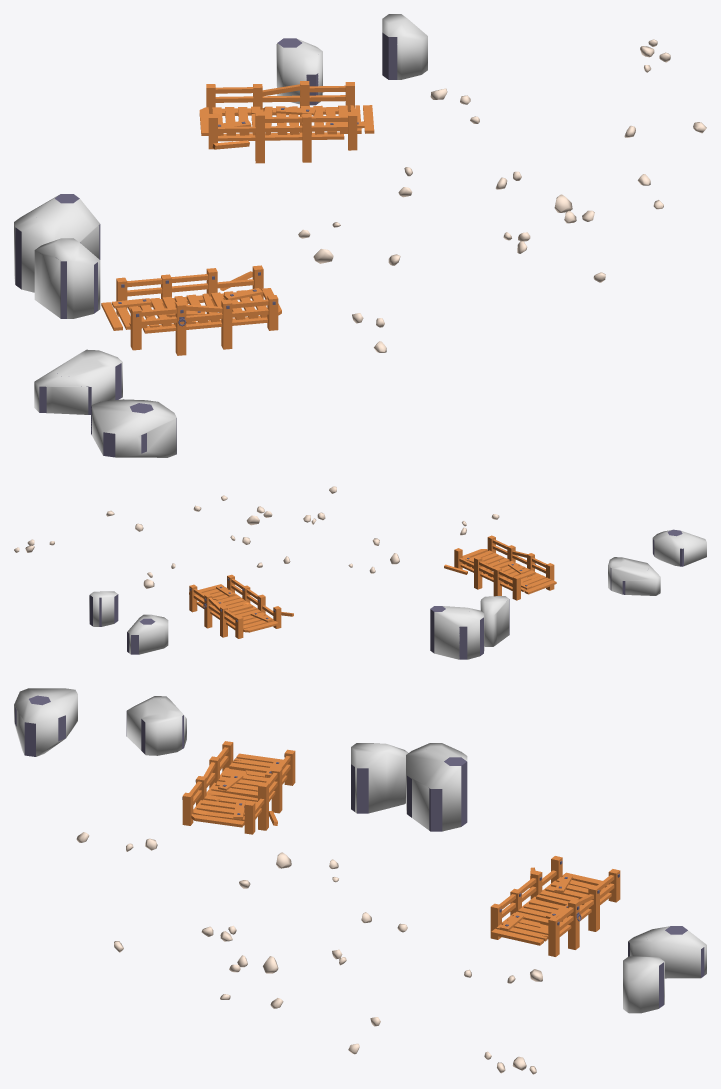
The model's file is scenery.glb.
3 renders of one model, top to bottom at view 1: azimuth 30°, elevation 25°; view 2: azimuth 150°, elevation 25°; view 3: azimuth 270°, elevation 25°, orthographic. The views are drawn at different scales.
Visible parts, largest first — view 1: bridgePhysicalFixed.001, bridgePhysicalFixed, hull.011, hull.016, hull.012, hull.015, Cube.157, hull.013, hull.014, basaltRocksPhysicalStatic.001, basaltRocksPhysicalStatic.002, basaltRocksPhysicalStatic; view 2: bridgePhysicalFixed.001, bridgePhysicalFixed, hull.015, hull.012, hull.011, Cube.157, hull.016, hull.014, hull.013, basaltRocksPhysicalStatic.001, basaltRocksPhysicalStatic; view 3: bridgePhysicalFixed, bridgePhysicalFixed.001, hull.015, hull.016, hull.011, hull.012, hull.014, Cube.157, basaltRocksPhysicalStatic.001, hull.013, basaltRocksPhysicalStatic.002.
Boxes of the visible parts, x1,y1,x2,y2 form: bridgePhysicalFixed.001: [101, 265, 281, 355]; bridgePhysicalFixed: [199, 81, 374, 163]; hull.011: [91, 399, 176, 457]; hull.016: [34, 238, 100, 318]; hull.012: [34, 349, 122, 414]; hull.015: [14, 195, 99, 292]; Cube.157: [298, 39, 706, 352]; hull.013: [382, 14, 427, 79]; hull.014: [276, 39, 322, 104]; basaltRocksPhysicalStatic.001: [15, 194, 100, 318]; basaltRocksPhysicalStatic.002: [39, 363, 176, 457]; basaltRocksPhysicalStatic: [277, 32, 397, 105]; bridgePhysicalFixed.001: [444, 535, 556, 600]; bridgePhysicalFixed: [189, 574, 293, 638]; hull.015: [434, 606, 484, 659]; hull.012: [608, 557, 660, 595]; hull.011: [652, 529, 706, 566]; Cube.157: [14, 486, 499, 588]; hull.016: [480, 596, 509, 646]; hull.014: [127, 614, 168, 654]; hull.013: [89, 591, 117, 626]; basaltRocksPhysicalStatic.001: [430, 599, 509, 659]; basaltRocksPhysicalStatic: [89, 594, 155, 654]; bridgePhysicalFixed: [490, 856, 620, 956]; bridgePhysicalFixed.001: [182, 741, 295, 834]; hull.015: [406, 743, 467, 831]; hull.016: [351, 743, 408, 813]; hull.011: [14, 688, 77, 756]; hull.012: [127, 696, 186, 755]; hull.014: [628, 926, 706, 978]; Cube.157: [76, 832, 542, 1074]; basaltRocksPhysicalStatic.001: [351, 757, 467, 831]; hull.013: [623, 956, 664, 1013]; basaltRocksPhysicalStatic.002: [15, 695, 183, 756].
Bounding box in the file's own units: 56.34 × 4.32 × 44.34.
1 material, 1 textured.
